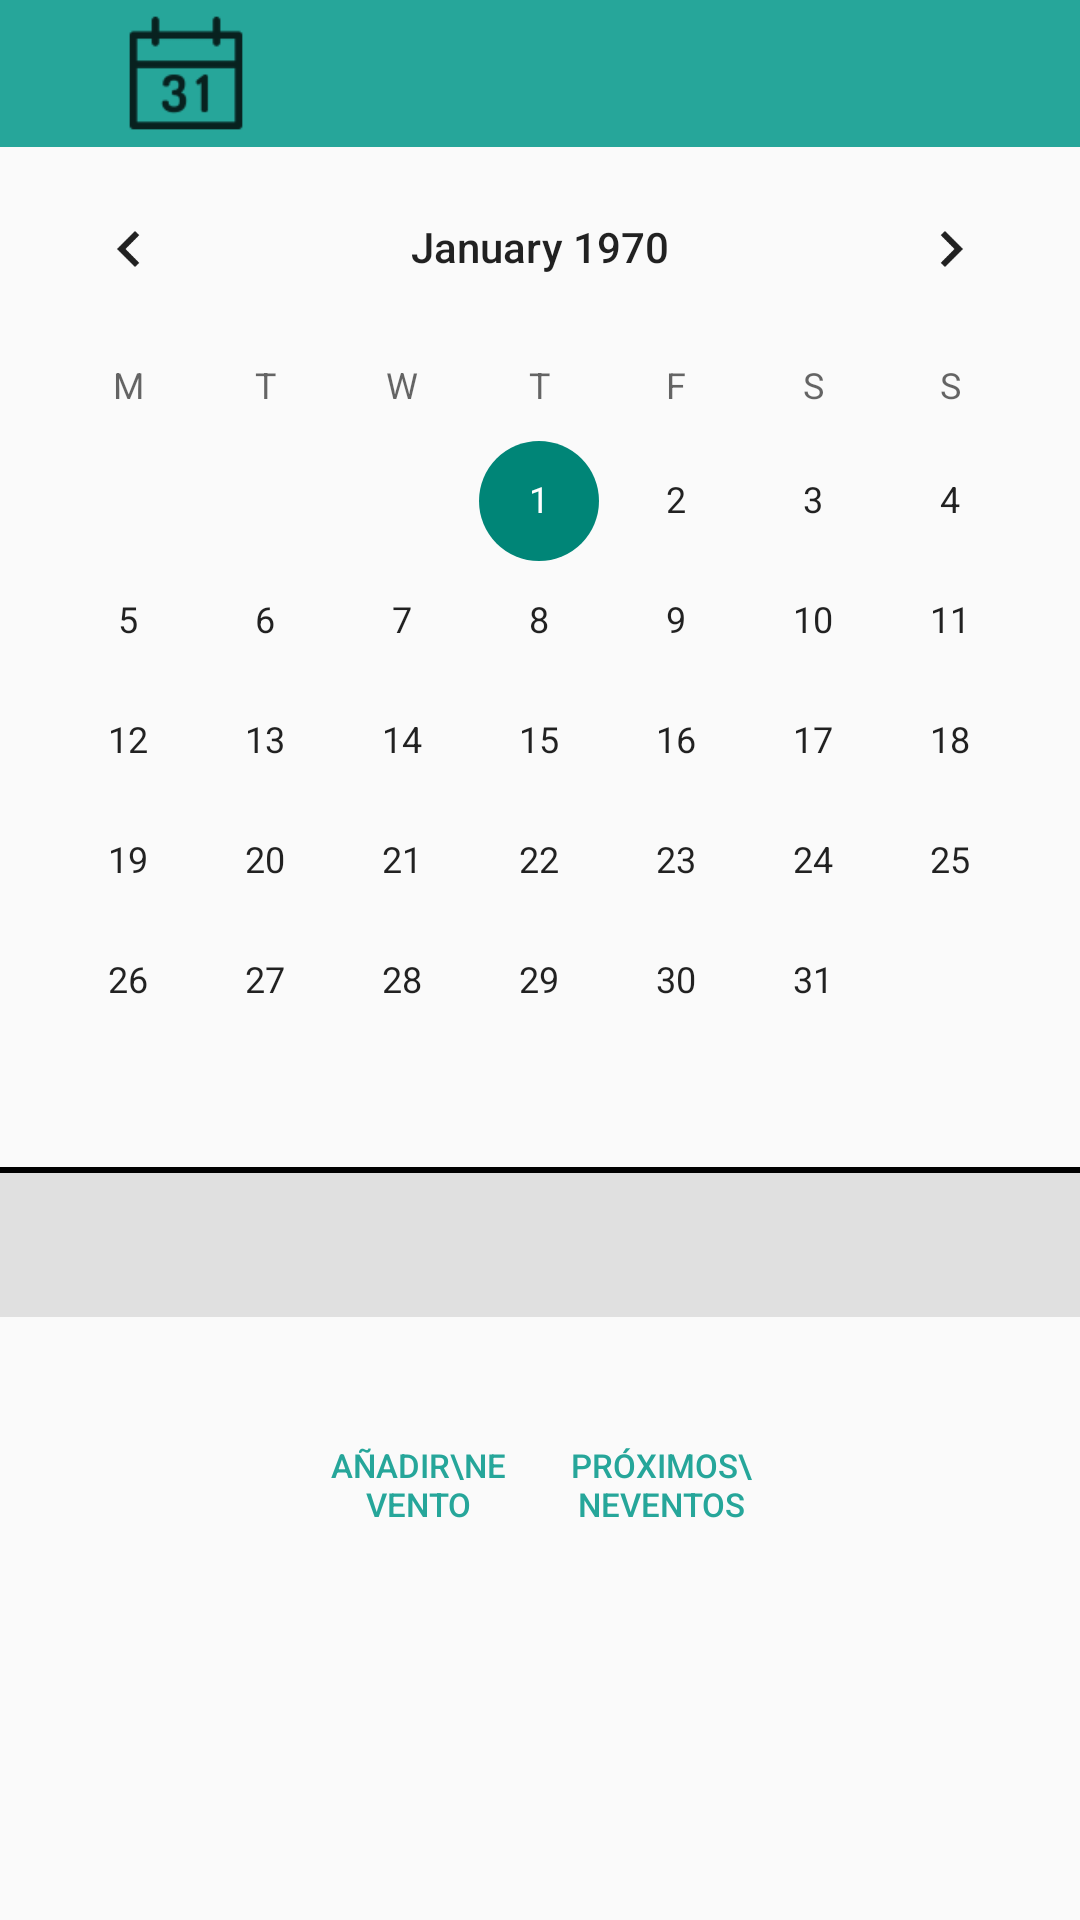

Screen size 1080*1920. Icon name, then its box in pixels as box(x1, y1, x2, y2):
calendar: box(129, 16, 243, 130)
